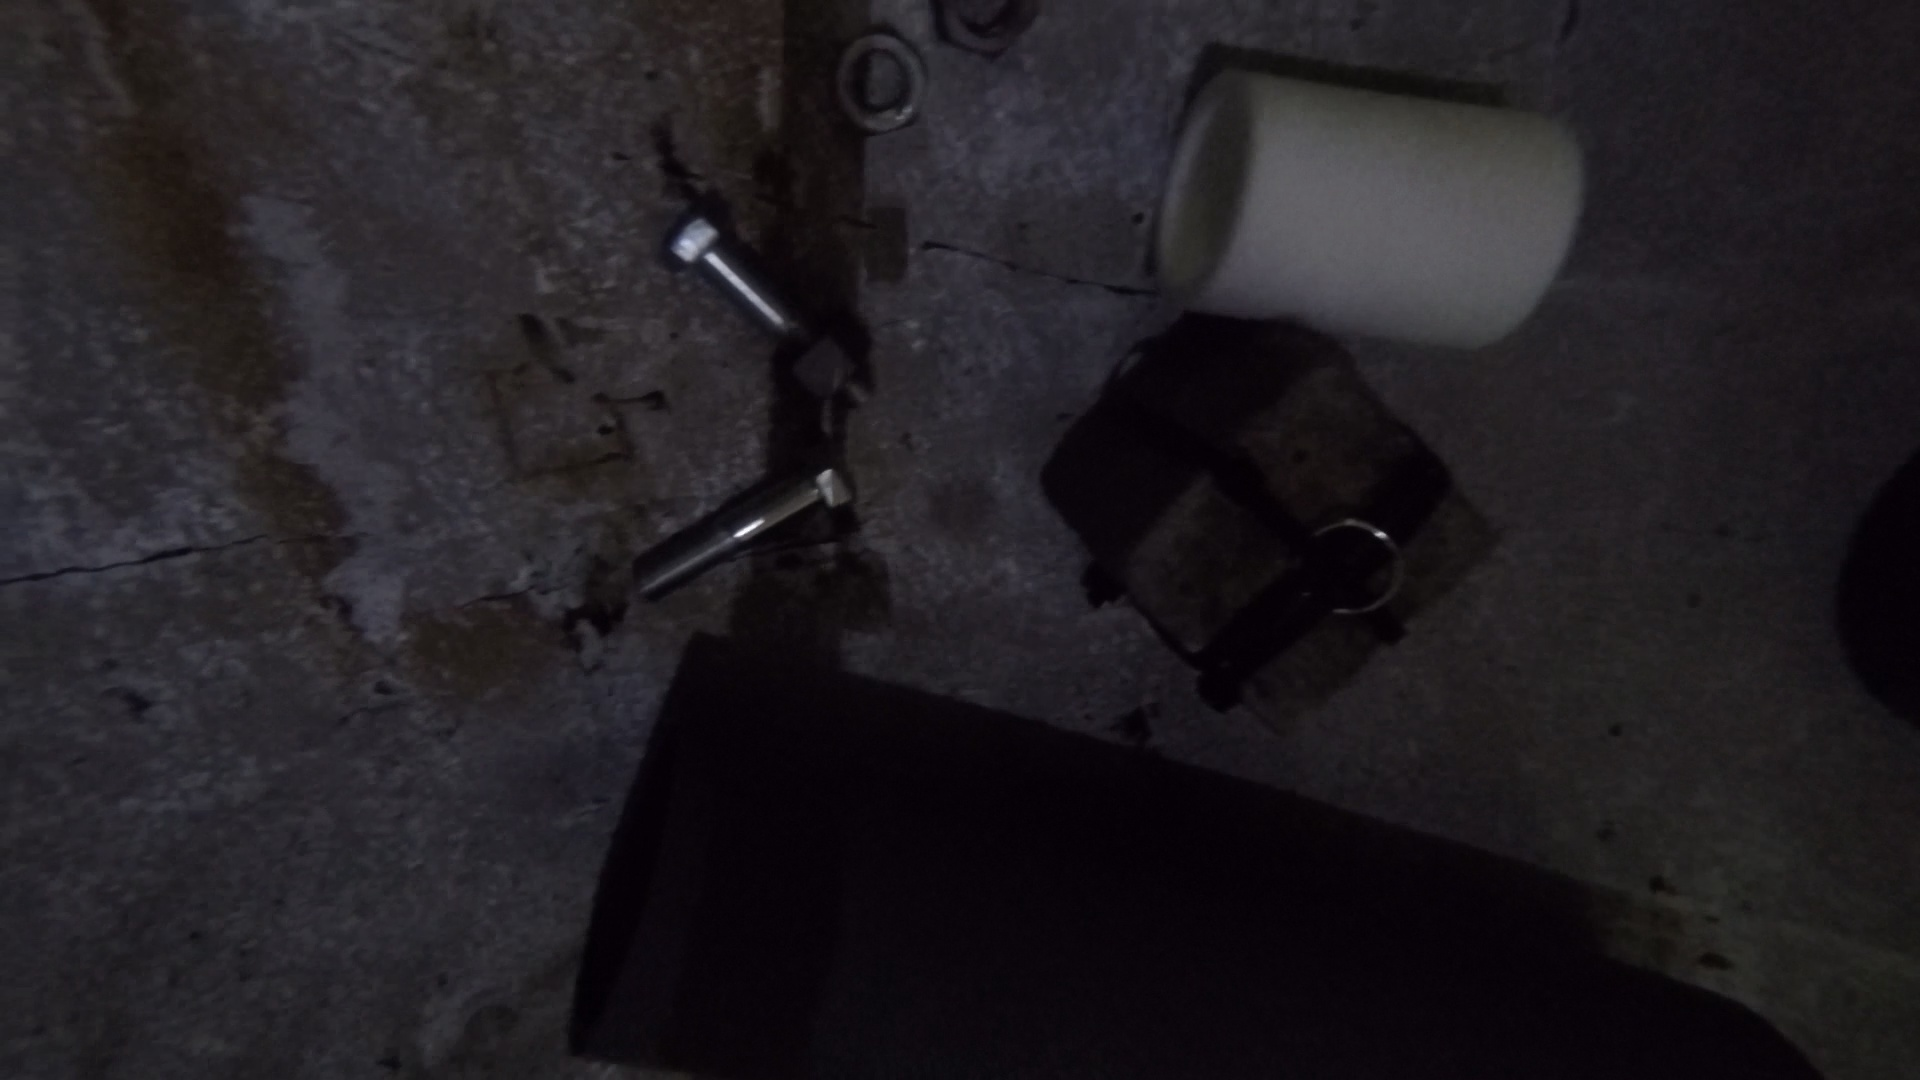bolt: (659, 199, 869, 404), (632, 438, 852, 603)
led_block: (1040, 309, 1506, 742)
nut: (832, 24, 927, 137), (782, 324, 866, 404), (938, 1, 1043, 62)
pipe: (571, 636, 1601, 1062), (1155, 67, 1582, 349)
